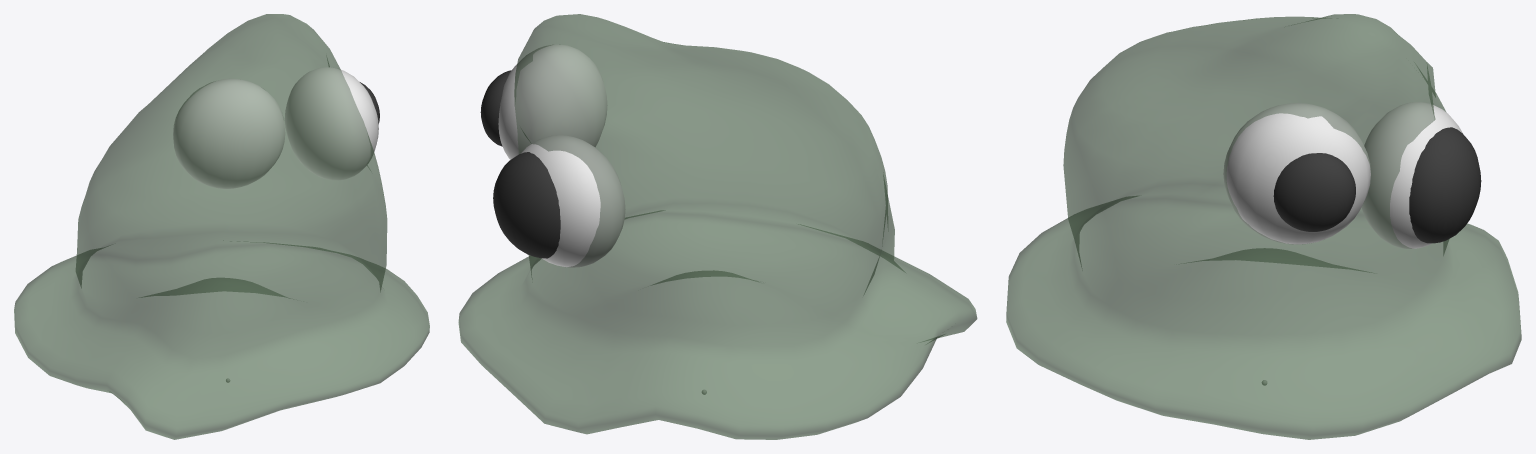
File: SLIME_VERT.fbx
3 views of the same model, side by side, from view 1: azimuth 30°, elevation 25°; view 2: azimuth 150°, elevation 25°; view 3: azimuth 270°, elevation 25° (orthographic). The views are drawn at different scales.
Visible parts, largest first — view 1: SLIME2; view 2: SLIME2; view 3: SLIME2.
Boxes of the visible parts, x1,y1,x2,y2 form: SLIME2: [14, 14, 429, 439]; SLIME2: [458, 14, 977, 439]; SLIME2: [1006, 14, 1521, 439].
Bounding box in the file's own units: 181 × 159 × 179.
